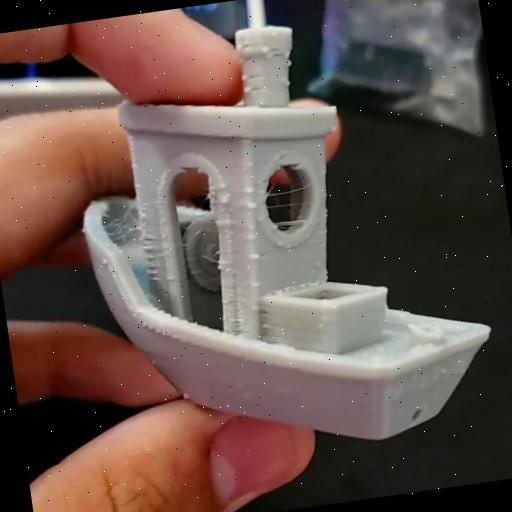blobs: (246, 246, 266, 262), (247, 278, 265, 293), (240, 184, 258, 197), (216, 194, 232, 208), (214, 177, 228, 193), (246, 199, 260, 214)
